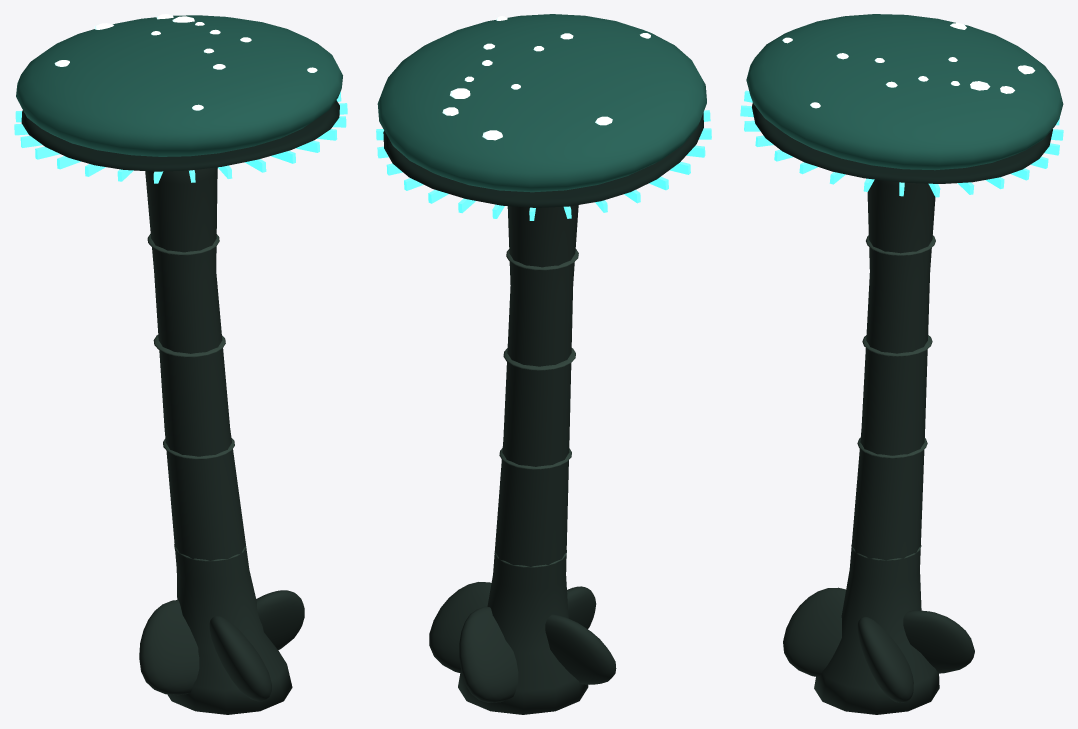
Rendered from prop_fungus_2.glb.
3 views of the same model, side by side, from view 1: azimuth 30°, elevation 25°; view 2: azimuth 150°, elevation 25°; view 3: azimuth 270°, elevation 25° (orthographic). The views are drawn at different scales.
Parts seen in each view (by area): view 1: buttress0, cap_dome, cap_under, gill0, scar0, spot0; view 2: cap_dome, buttress0, cap_under, gill0, scar0, spot0; view 3: buttress0, cap_dome, cap_under, gill0, scar0, spot0.
Part boxes in pixels (x1,y1,x2,y2): buttress0: (139, 167, 304, 714); cap_dome: (16, 15, 342, 156); cap_under: (21, 100, 339, 171); gill0: (14, 92, 347, 183); scar0: (147, 234, 246, 561); spot0: (54, 14, 317, 110); cap_dome: (377, 14, 706, 192); buttress0: (429, 205, 616, 714); cap_under: (383, 112, 703, 207); gill0: (376, 110, 711, 220); scar0: (494, 249, 578, 567); spot0: (442, 16, 650, 140); buttress0: (783, 179, 974, 714); cap_dome: (746, 14, 1063, 170); cap_under: (752, 102, 1052, 183); gill0: (740, 90, 1063, 197); scar0: (851, 235, 935, 560); spot0: (782, 23, 1035, 108).
Size of the model in its own units: 3.86 by 8.19 by 3.86.
